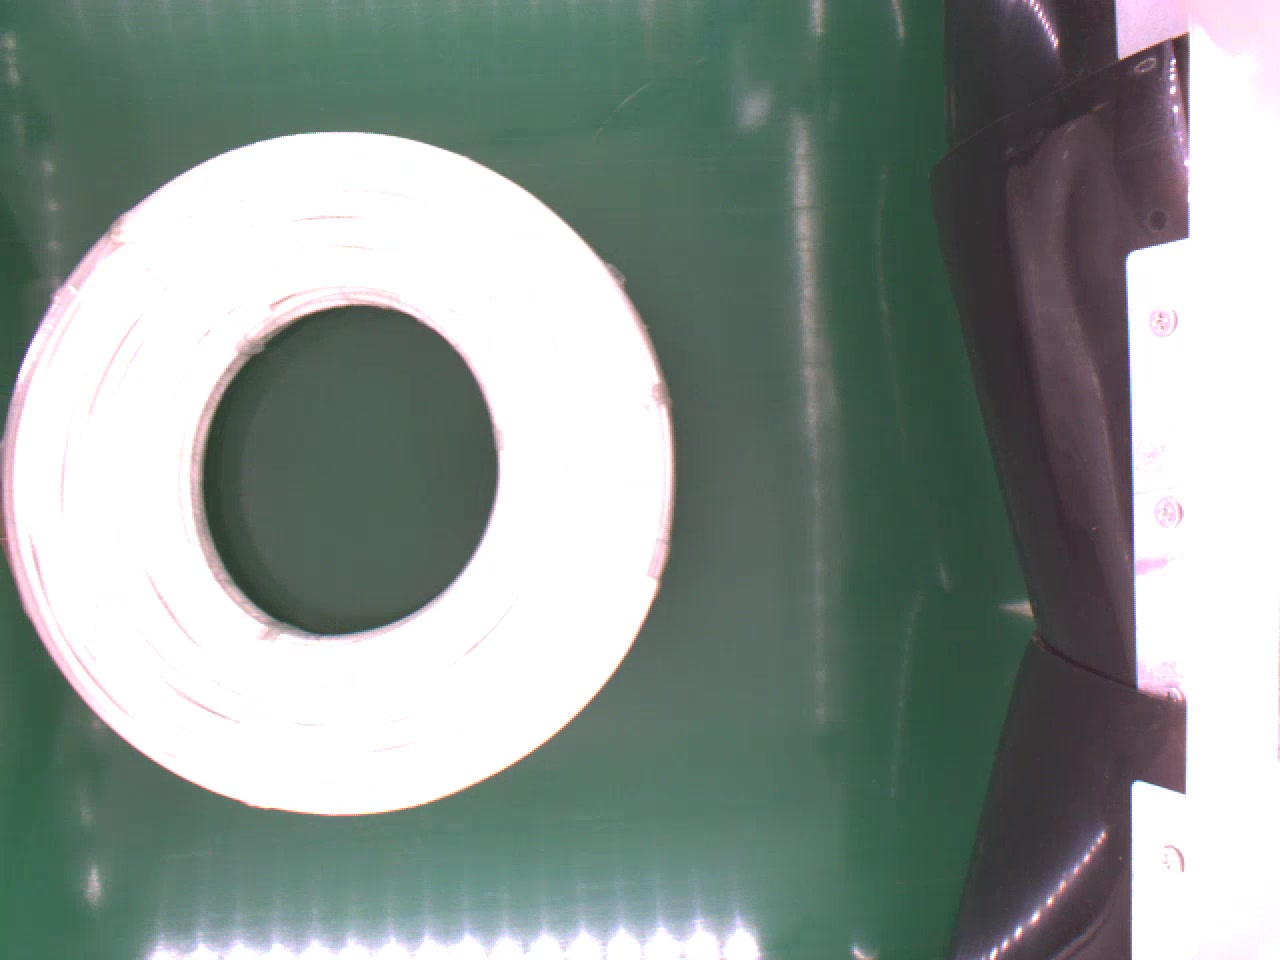white: (1, 128, 679, 822)
